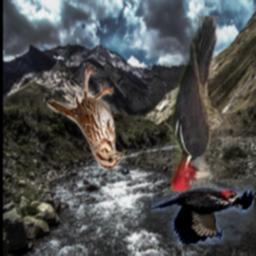Sparrow: (45, 63, 124, 170)
Woodpecker: (171, 16, 249, 192), (150, 186, 253, 245)
